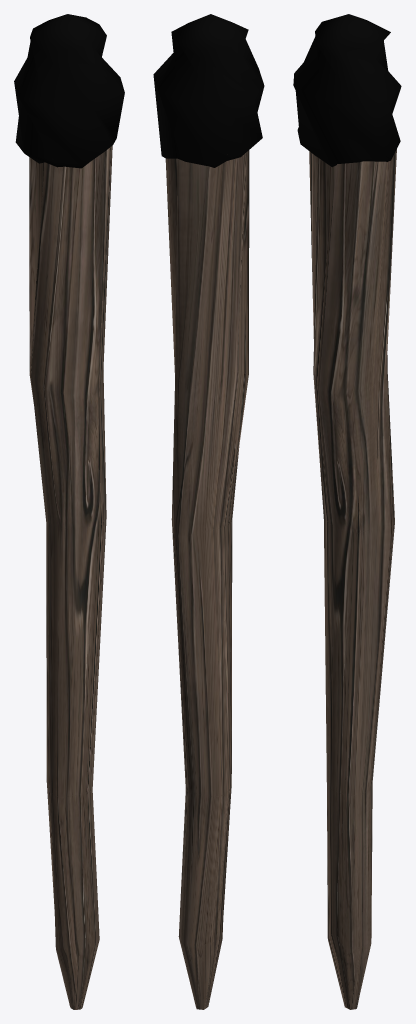
Rendered from Torcia.FBX.
The picture shows the model from 3 angles, left to right: view 1: azimuth 30°, elevation 25°; view 2: azimuth 210°, elevation 25°; view 3: azimuth 330°, elevation 25°; orthographic projection.
Parts seen in each view (by area): view 1: Torcia; view 2: Torcia; view 3: Torcia.
Boxes of the visible parts, x1,y1,x2,y2 form: Torcia: (14, 14, 124, 1009); Torcia: (153, 14, 264, 1009); Torcia: (293, 14, 401, 1009).
Size of the model in its own units: 61.53 by 600 by 52.53.
